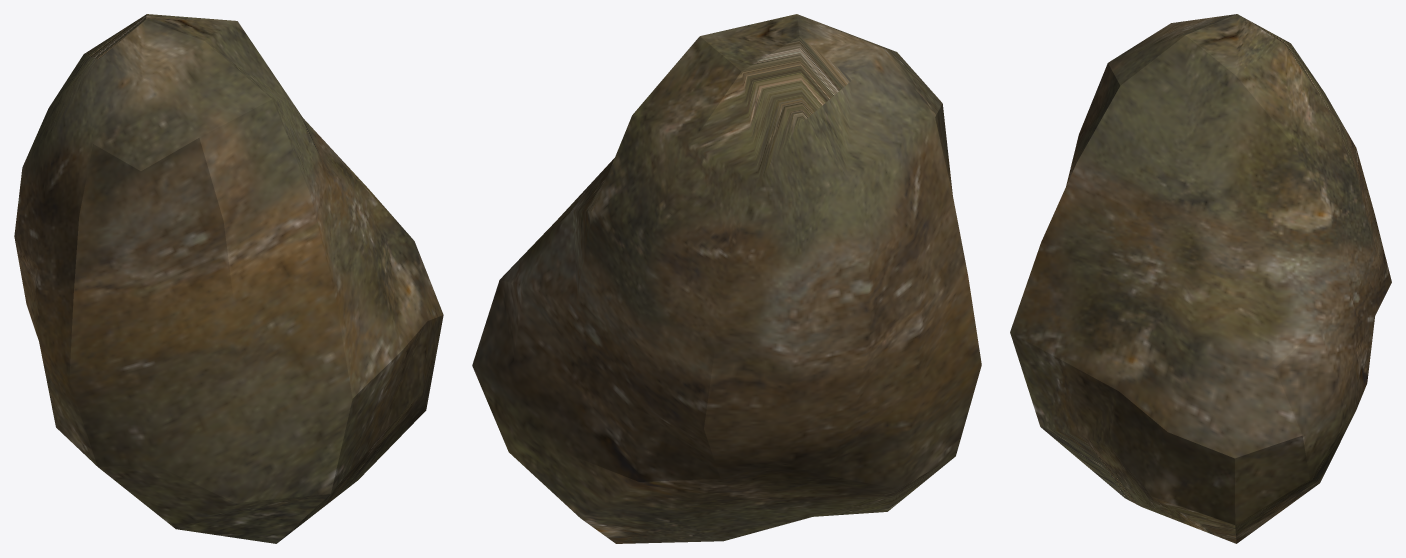
Rendered from rock2.gltf.
3 views of the same model, side by side, from view 1: azimuth 30°, elevation 25°; view 2: azimuth 150°, elevation 25°; view 3: azimuth 270°, elevation 25° (orthographic). The views are drawn at different scales.
Parts seen in each view (by area): view 1: rock; view 2: rock; view 3: rock.
Boxes of the visible parts, x1,y1,x2,y2 form: rock: (14,14,443,543); rock: (472,14,981,543); rock: (1010,14,1391,543).
Bounding box in the file's own units: 0.8207 × 0.9842 × 0.7472.
